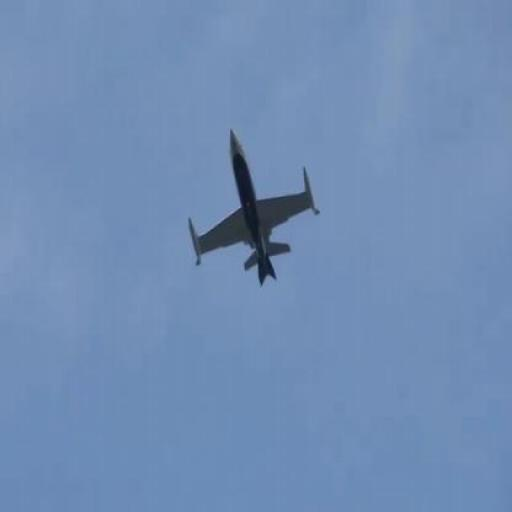aircraft: (184, 128, 322, 288)
